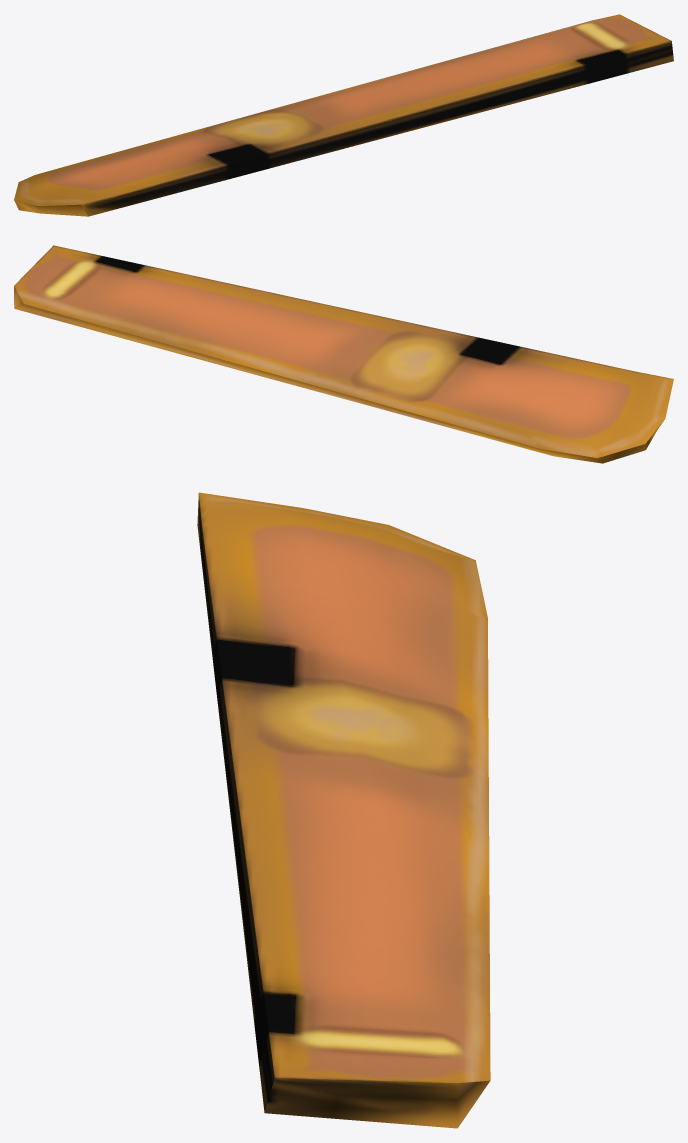
File: plane_flap_R.dae
3 views of the same model, one above another, from view 1: azimuth 30°, elevation 25°; view 2: azimuth 150°, elevation 25°; view 3: azimuth 270°, elevation 25° (orthographic). The views are drawn at different scales.
Visible parts, largest first — view 1: flap_right; view 2: flap_right; view 3: flap_right.
Part boxes in pixels (x1,y1,x2,y2): flap_right: (14,14,673,216); flap_right: (14,245,673,463); flap_right: (197,492,490,1128).
Size of the model in its own units: 1.54 by 0.3156 by 0.0985.
1 material, 1 textured.
